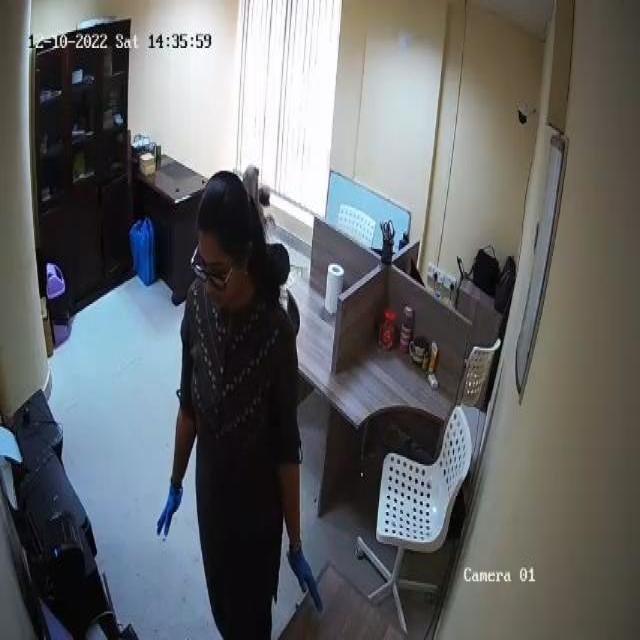gloved_hand: (286, 537, 326, 617), (156, 469, 184, 540)
